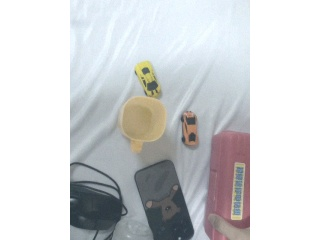box: (208, 123, 250, 239)
cup: (118, 95, 168, 155)
mouse: (69, 161, 125, 232)
phone: (134, 159, 197, 239)
toy_car: (134, 60, 163, 99), (180, 110, 200, 148)
